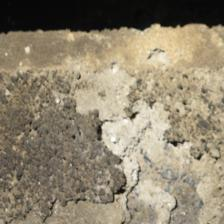Crack: (71, 83, 132, 206), (39, 187, 125, 222)
